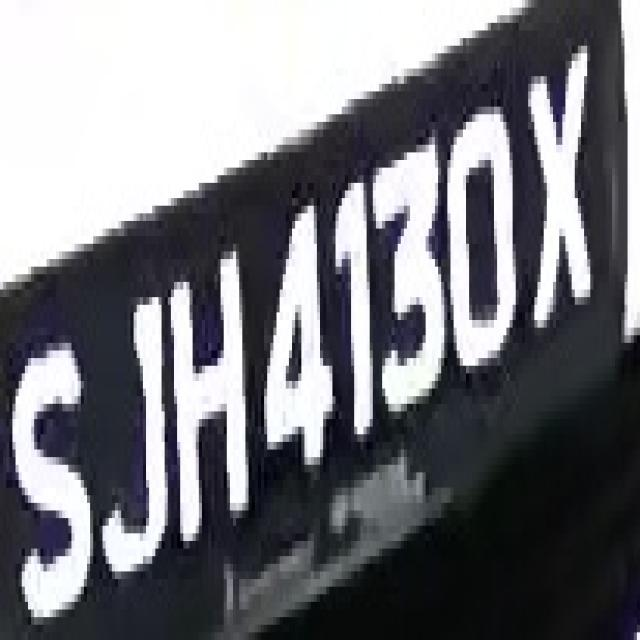0: (438, 99, 519, 396)
1: (330, 152, 386, 480)
3: (373, 122, 450, 434)
4: (248, 175, 336, 495)
H: (158, 236, 255, 572)
J: (87, 266, 174, 610)
S: (6, 305, 100, 632)
X: (522, 46, 603, 358)
